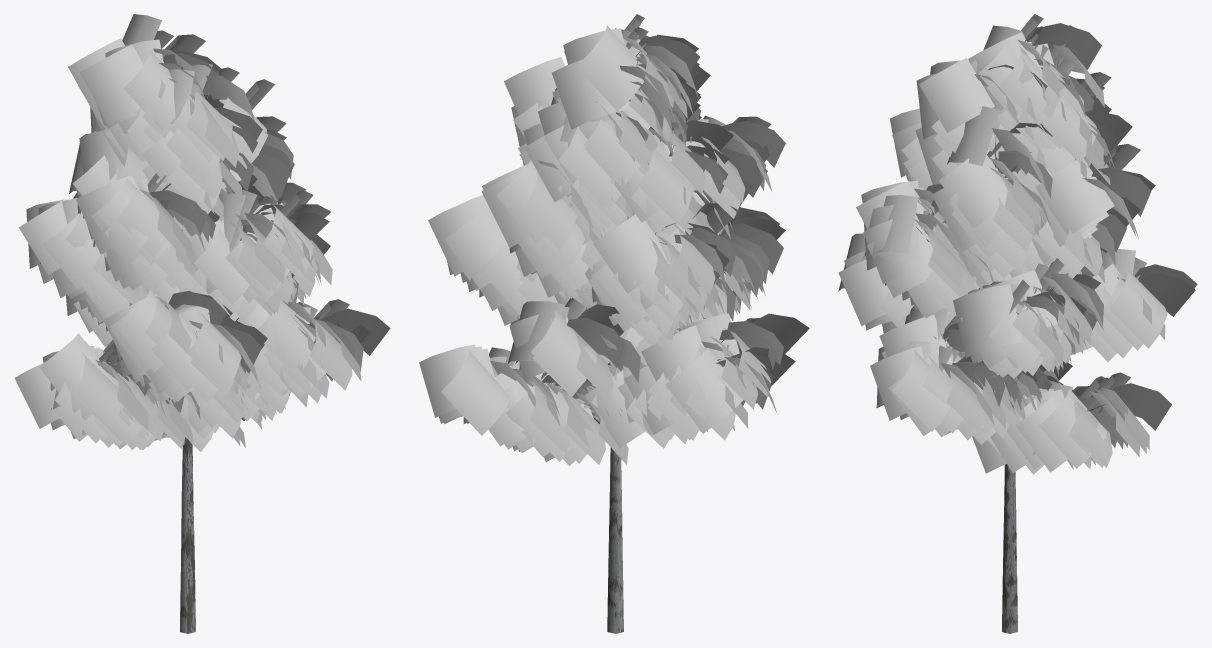
File: Tree1.fbx
The picture shows the model from 3 angles, left to right: view 1: azimuth 30°, elevation 25°; view 2: azimuth 150°, elevation 25°; view 3: azimuth 270°, elevation 25°; orthographic projection. The views are drawn at different scales.
Visible parts, largest first — view 1: leaves1, tree1; view 2: leaves1, tree1; view 3: leaves1, tree1.
Part boxes in pixels (x1,y1,x2,y2): leaves1: (14, 14, 390, 451); tree1: (180, 90, 297, 633); leaves1: (419, 14, 809, 466); tree1: (592, 145, 738, 633); leaves1: (838, 14, 1197, 474); tree1: (916, 43, 1105, 633).
Size of the model in its own units: 532 by 997 by 541.
